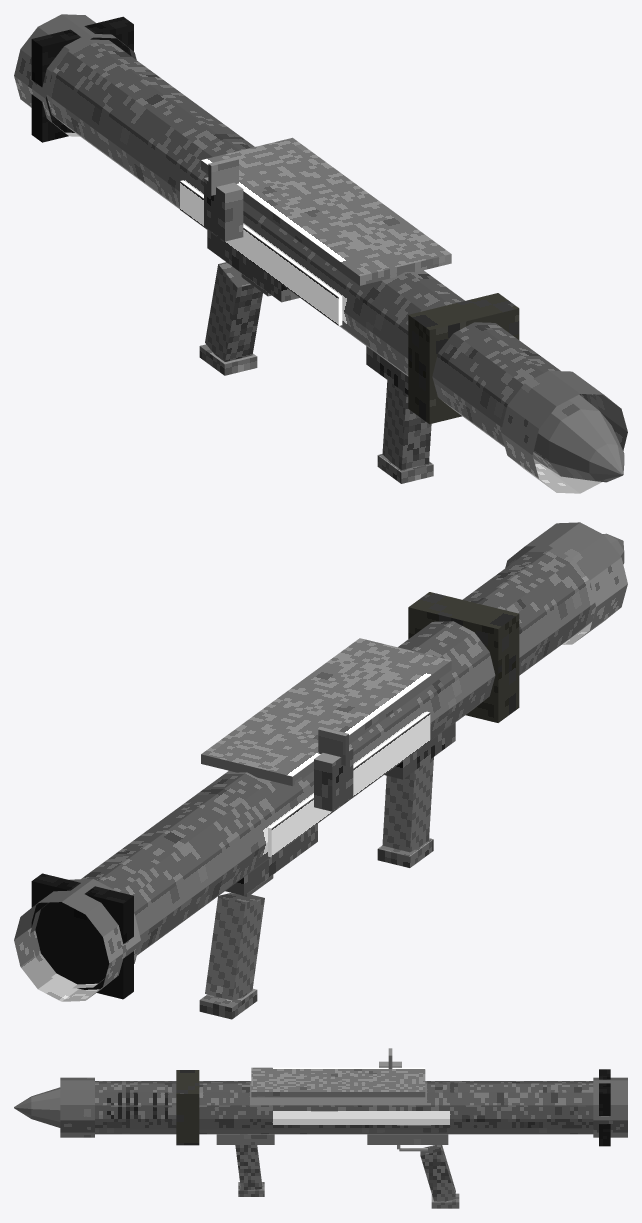
File: unsolicited_launcher.glb
3 views of the same model, one above another, from view 1: azimuth 30°, elevation 25°; view 2: azimuth 150°, elevation 25°; view 3: azimuth 270°, elevation 25° (orthographic). The views are drawn at different scales.
Visible parts, largest first — view 1: prop, opt_deco_tape, opt_mag_rocket, opt_optic_ladder; view 2: prop, opt_deco_tape, opt_optic_ladder; view 3: prop, opt_deco_tape, opt_mag_rocket.
Part boxes in pixels (x1,y1,x2,y2): prop: (14, 14, 627, 493); opt_deco_tape: (408, 293, 519, 424); opt_mag_rocket: (532, 394, 624, 482); opt_optic_ladder: (204, 157, 243, 241); prop: (14, 522, 627, 1019); opt_deco_tape: (408, 592, 519, 722); opt_optic_ladder: (314, 727, 353, 811); prop: (60, 1067, 627, 1208); opt_deco_tape: (176, 1070, 199, 1145); opt_mag_rocket: (14, 1087, 60, 1127).
Size of what is drawn, in the model's own units: 0.127 by 0.262 by 1.06.
1 material, 1 textured.
